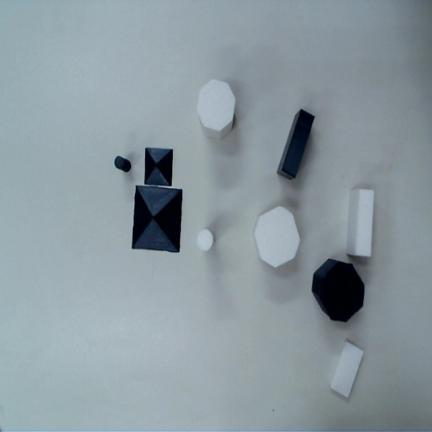Cilindro: (196, 229, 214, 250), (114, 156, 131, 172)
Paralelepipedo: (277, 107, 315, 179), (330, 341, 365, 399), (346, 188, 374, 258)
Piramide: (132, 185, 183, 253), (144, 148, 173, 187)
Prisma_hexagonal: (312, 258, 364, 322), (254, 206, 300, 267), (196, 79, 236, 139)
